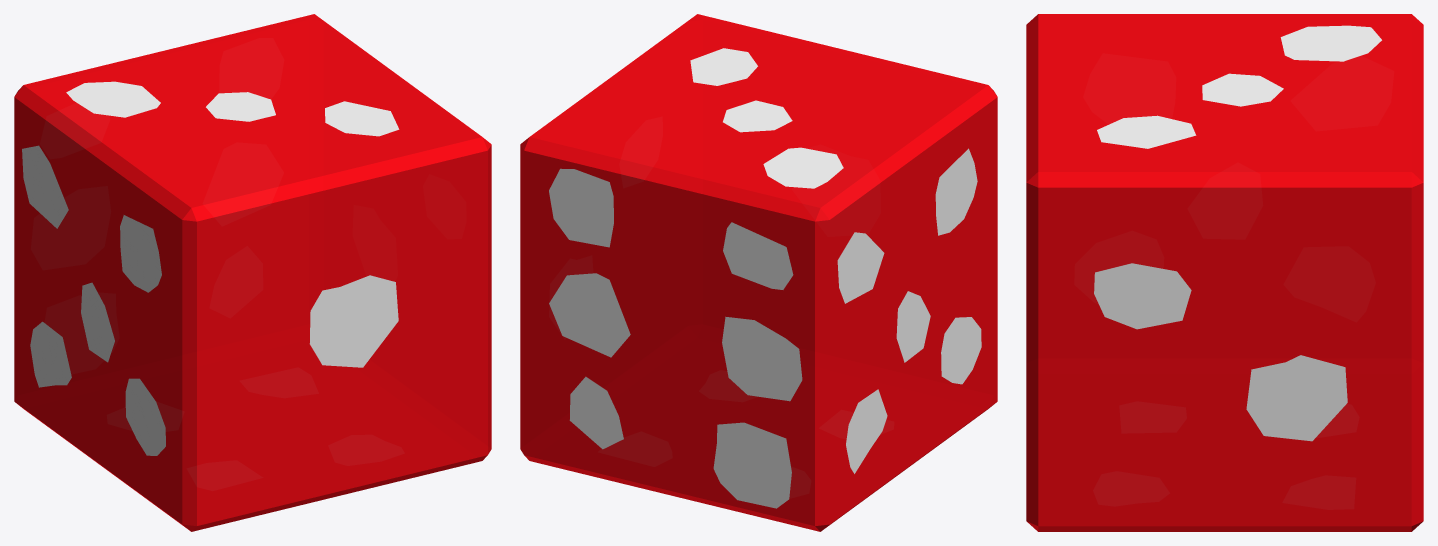
File: Red Die.glb
The picture shows the model from 3 angles, left to right: view 1: azimuth 30°, elevation 25°; view 2: azimuth 150°, elevation 25°; view 3: azimuth 270°, elevation 25°; orthographic projection. The views are drawn at different scales.
Visible parts, largest first — view 1: Dice; view 2: Dice; view 3: Dice.
Part boxes in pixels (x1,y1,x2,y2): Dice: (14, 14, 491, 531); Dice: (520, 14, 997, 531); Dice: (1026, 14, 1423, 531).
Bounding box in the file's own units: 0.0254 × 0.0254 × 0.0254.
